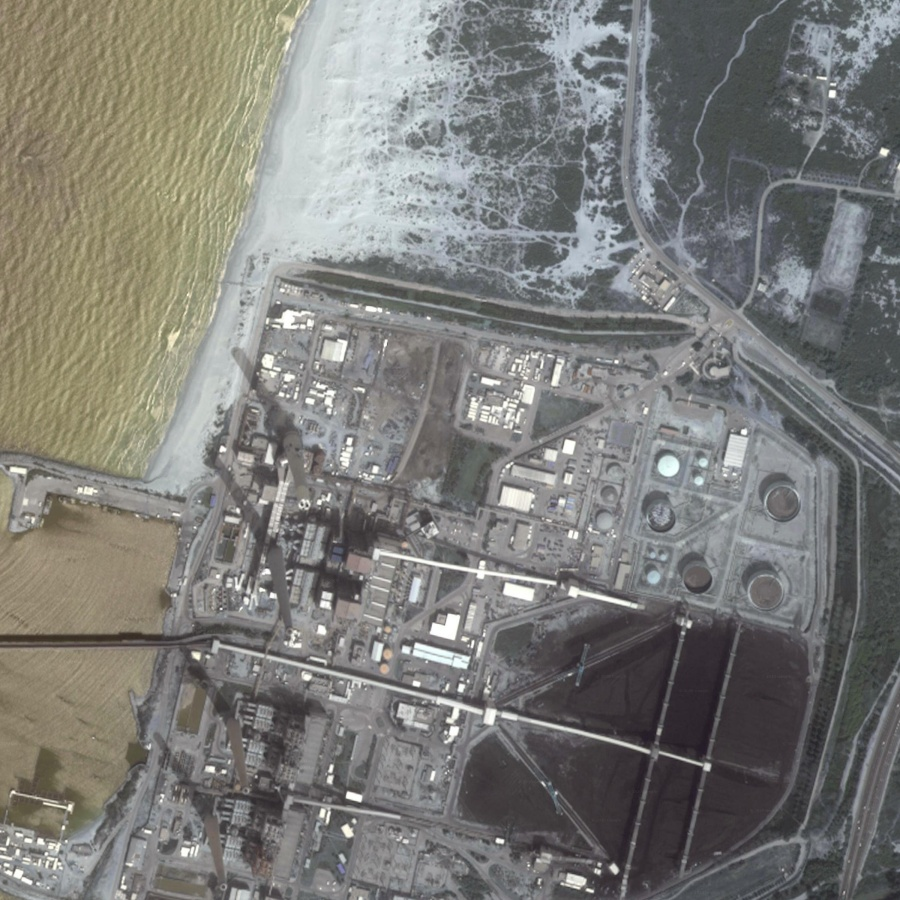PowerPlant: (453, 486, 814, 882), (120, 477, 381, 898)
